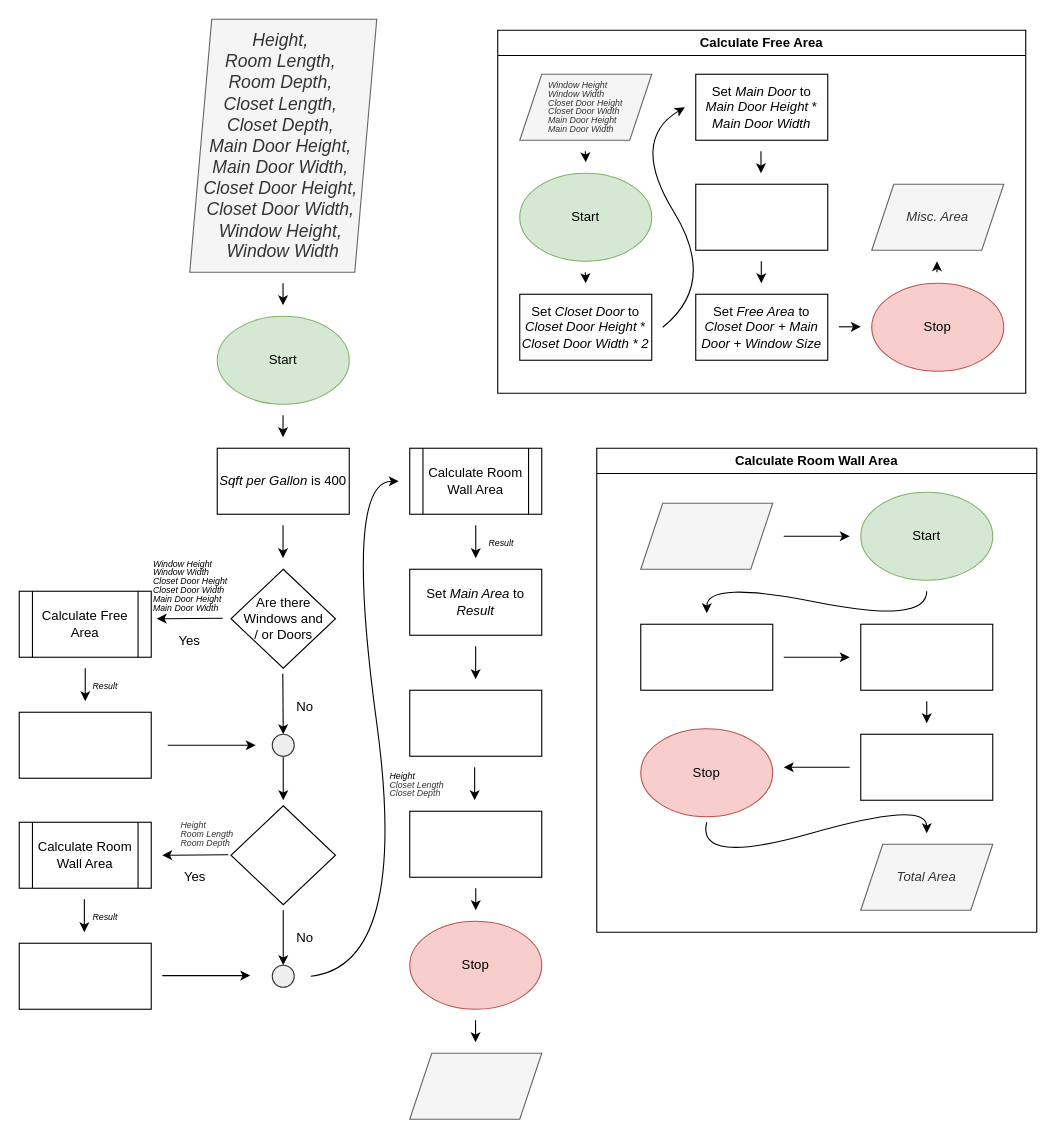
This 1056x1139 diagram has some shape labels left out. The box of each missing label's shape, as (x1, y1, x2, y2) in pixels:
Gallons of Paint: (409, 1052, 542, 1119)
Height Length Depth: (640, 502, 773, 569)
Is there a Closet?: (230, 805, 336, 905)
Set Closet Area to Result: (18, 942, 151, 1009)
Set Depthwise Area to Depth * Height: (860, 623, 993, 690)
Set Free Area to Result: (18, 711, 151, 778)
Set Gallons of Paint to Total Area / Sqft per Gallon * 2: (409, 810, 542, 877)
Set Lengthwise Area to Length * Height: (640, 623, 773, 690)
Set Total Area to Lengthwise Area + Depthwise Area: (860, 733, 993, 800)
Set Total Area to Main Area + Closet Area - Free Area: (409, 689, 542, 756)
Set Window Size to Window Height * Window Width: (695, 183, 828, 250)
